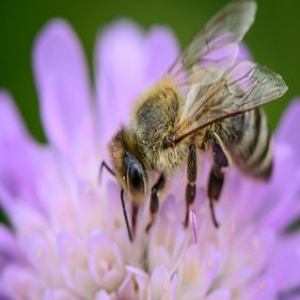bee: (102, 4, 286, 235)
